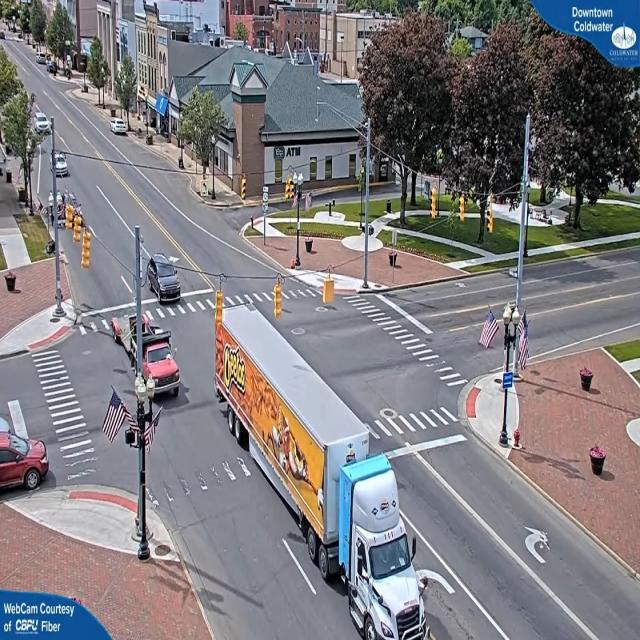car: (0, 431, 50, 497), (144, 254, 181, 302), (54, 152, 69, 177), (111, 120, 129, 136)
truck: (326, 452, 432, 640), (115, 314, 180, 403)
